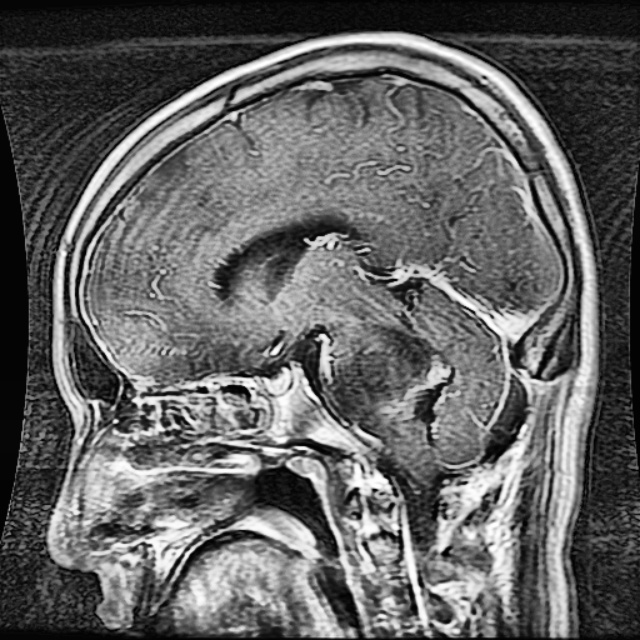Meningioma: (323, 328, 448, 413)
